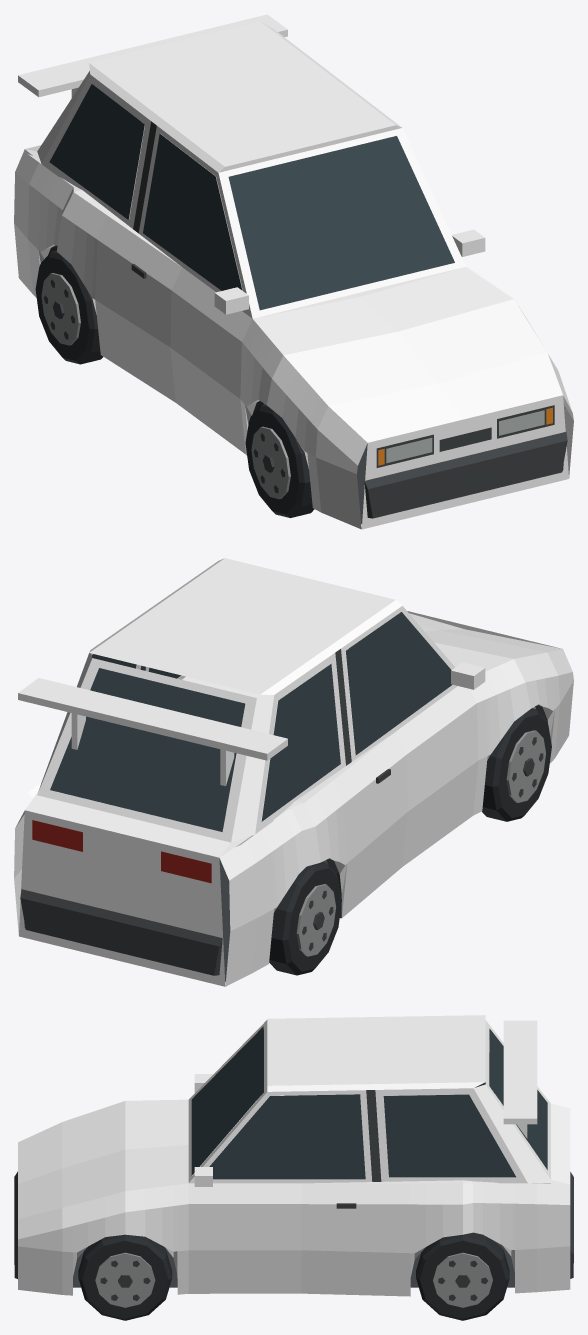
File: morel_bruyere_corrida.glb
3 views of the same model, one above another, from view 1: azimuth 30°, elevation 25°; view 2: azimuth 150°, elevation 25°; view 3: azimuth 270°, elevation 25° (orthographic). The views are drawn at different scales.
Parts seen in each view (by area): view 1: morel_bruyere_corrida; view 2: morel_bruyere_corrida; view 3: morel_bruyere_corrida.
Part boxes in pixels (left/top/right/bottom): morel_bruyere_corrida: left=14, top=14, right=573, bottom=529; morel_bruyere_corrida: left=14, top=558, right=573, bottom=986; morel_bruyere_corrida: left=14, top=1015, right=573, bottom=1320.
Size of the model in its own units: 1.61 by 1.62 by 3.68.
8 materials, 1 textured.
